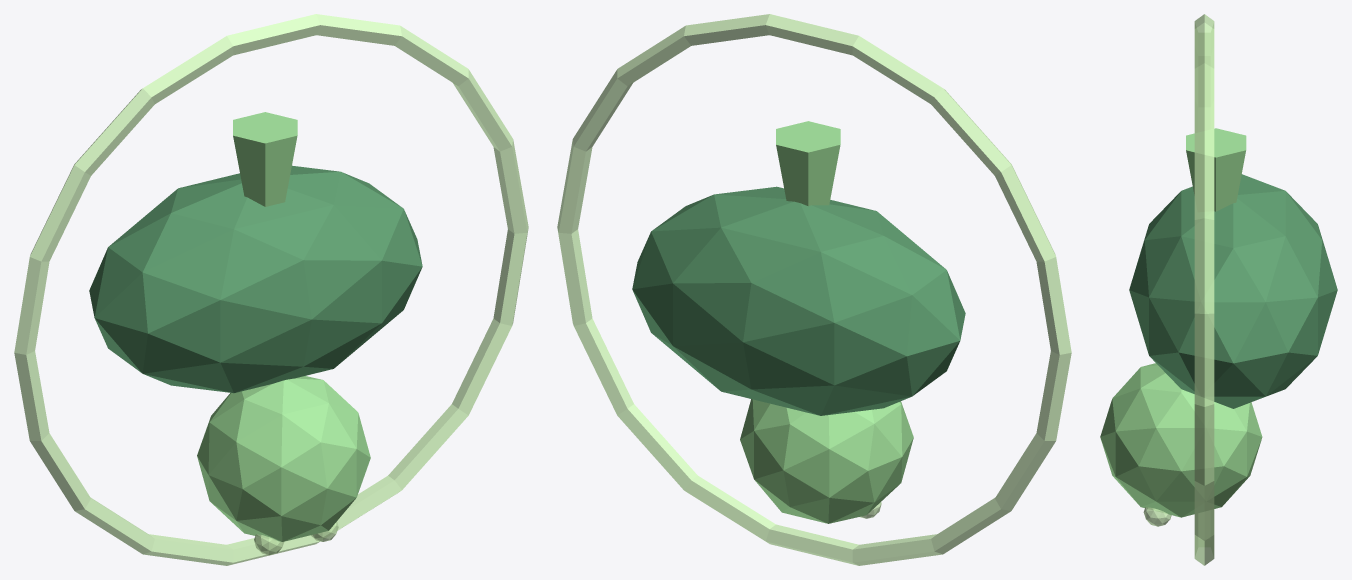
The model's file is 08_pet_companion_proc.glb.
3 views of the same model, side by side, from view 1: azimuth 30°, elevation 25°; view 2: azimuth 150°, elevation 25°; view 3: azimuth 270°, elevation 25° (orthographic). The views are drawn at different scales.
Visible parts, largest first — view 1: pet_body, bonus_proc_ring, pet_head, tail_or_antenna; view 2: pet_body, bonus_proc_ring, pet_head, tail_or_antenna; view 3: pet_body, pet_head, bonus_proc_ring, tail_or_antenna, pet_eye_r.
Part boxes in pixels (x1,y1,x2,y2): pet_body: (89,165,422,393); bonus_proc_ring: (14,14,528,565); pet_head: (197,376,370,541); tail_or_antenna: (233,112,297,206); pet_body: (632,186,965,415); bonus_proc_ring: (557,14,1071,565); pet_head: (740,399,913,523); tail_or_antenna: (776,121,840,206); pet_body: (1129,174,1337,408); pet_head: (1100,363,1262,517); bonus_proc_ring: (1194,14,1214,565); tail_or_antenna: (1186,128,1246,211); pet_eye_r: (1143,507,1171,526).
Size of the model in its own units: 0.956 by 0.9415 by 0.41.
